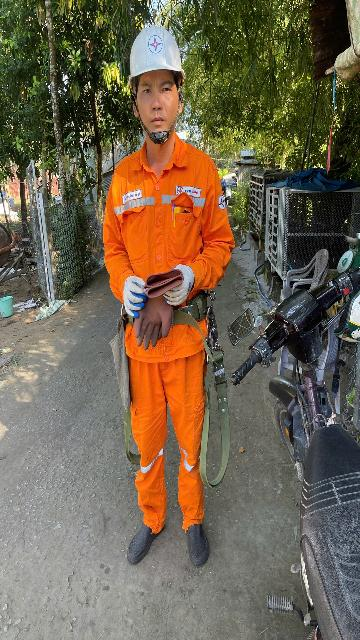gloves: (135, 278, 175, 351), (155, 255, 199, 313), (116, 275, 143, 320)
harness: (79, 299, 224, 336)
helmet: (114, 11, 186, 86)
shoes: (109, 513, 162, 574), (179, 517, 219, 572)
